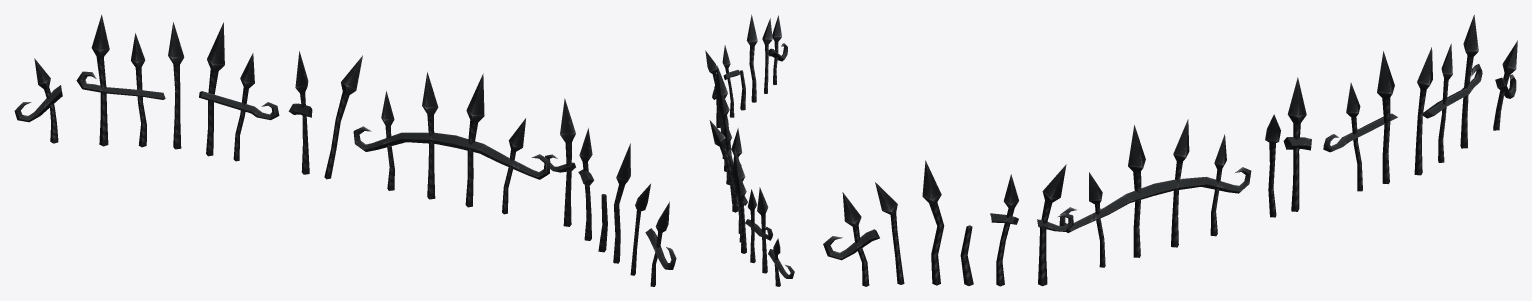
Rendered from mesh_raid3_fence1.FBX.
3 renders of one model, left to right at view 1: azimuth 30°, elevation 25°; view 2: azimuth 150°, elevation 25°; view 3: azimuth 270°, elevation 25°, orthographic. The views are drawn at different scales.
Parts seen in each view (by area): view 1: mesh_raid3_fence1; view 2: mesh_raid3_fence1; view 3: mesh_raid3_fence1.
Boxes of the visible parts, x1=… form: mesh_raid3_fence1: x1=14, y1=14, x2=676, y2=286; mesh_raid3_fence1: x1=705, y1=14, x2=794, y2=286; mesh_raid3_fence1: x1=823, y1=15, x2=1517, y2=286.
Bounding box in the file's own units: 8.86 × 3.22 × 14.61.
